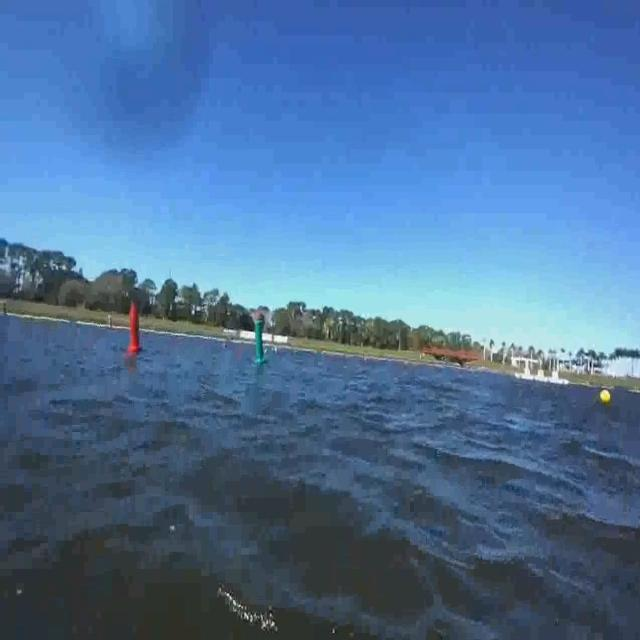green-column-buoy: (255, 321, 270, 367)
red-column-buoy: (128, 303, 144, 355)
yellow-buoy: (599, 387, 612, 406)
